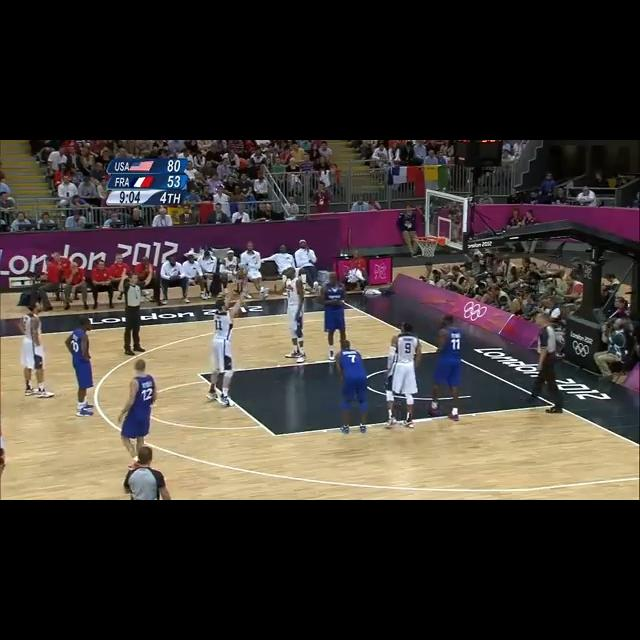basketball: (233, 266, 248, 282)
hoop: (414, 233, 441, 259)
